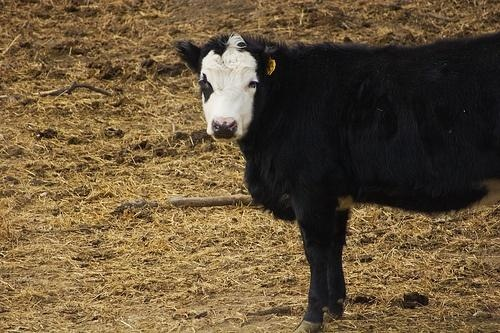cow: (175, 29, 500, 333)
